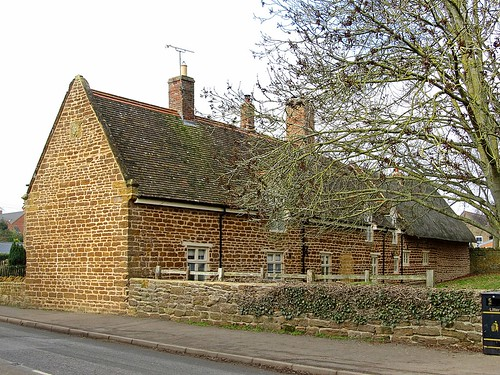medium: (21, 64, 480, 308)
